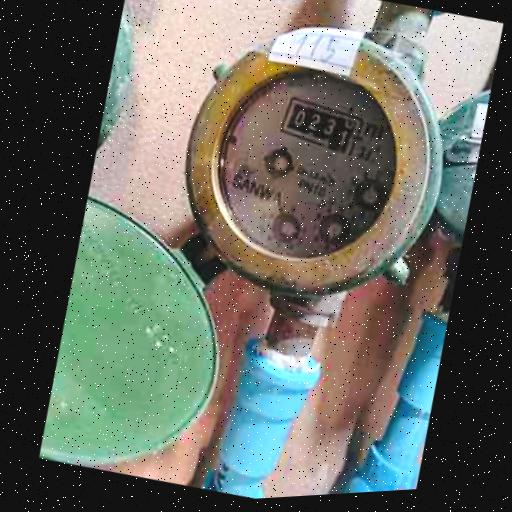0: (285, 100, 314, 135)
1: (325, 113, 359, 156)
2: (300, 106, 328, 141)
3: (315, 110, 342, 144)
border_water_meter_number: (273, 87, 370, 163)
